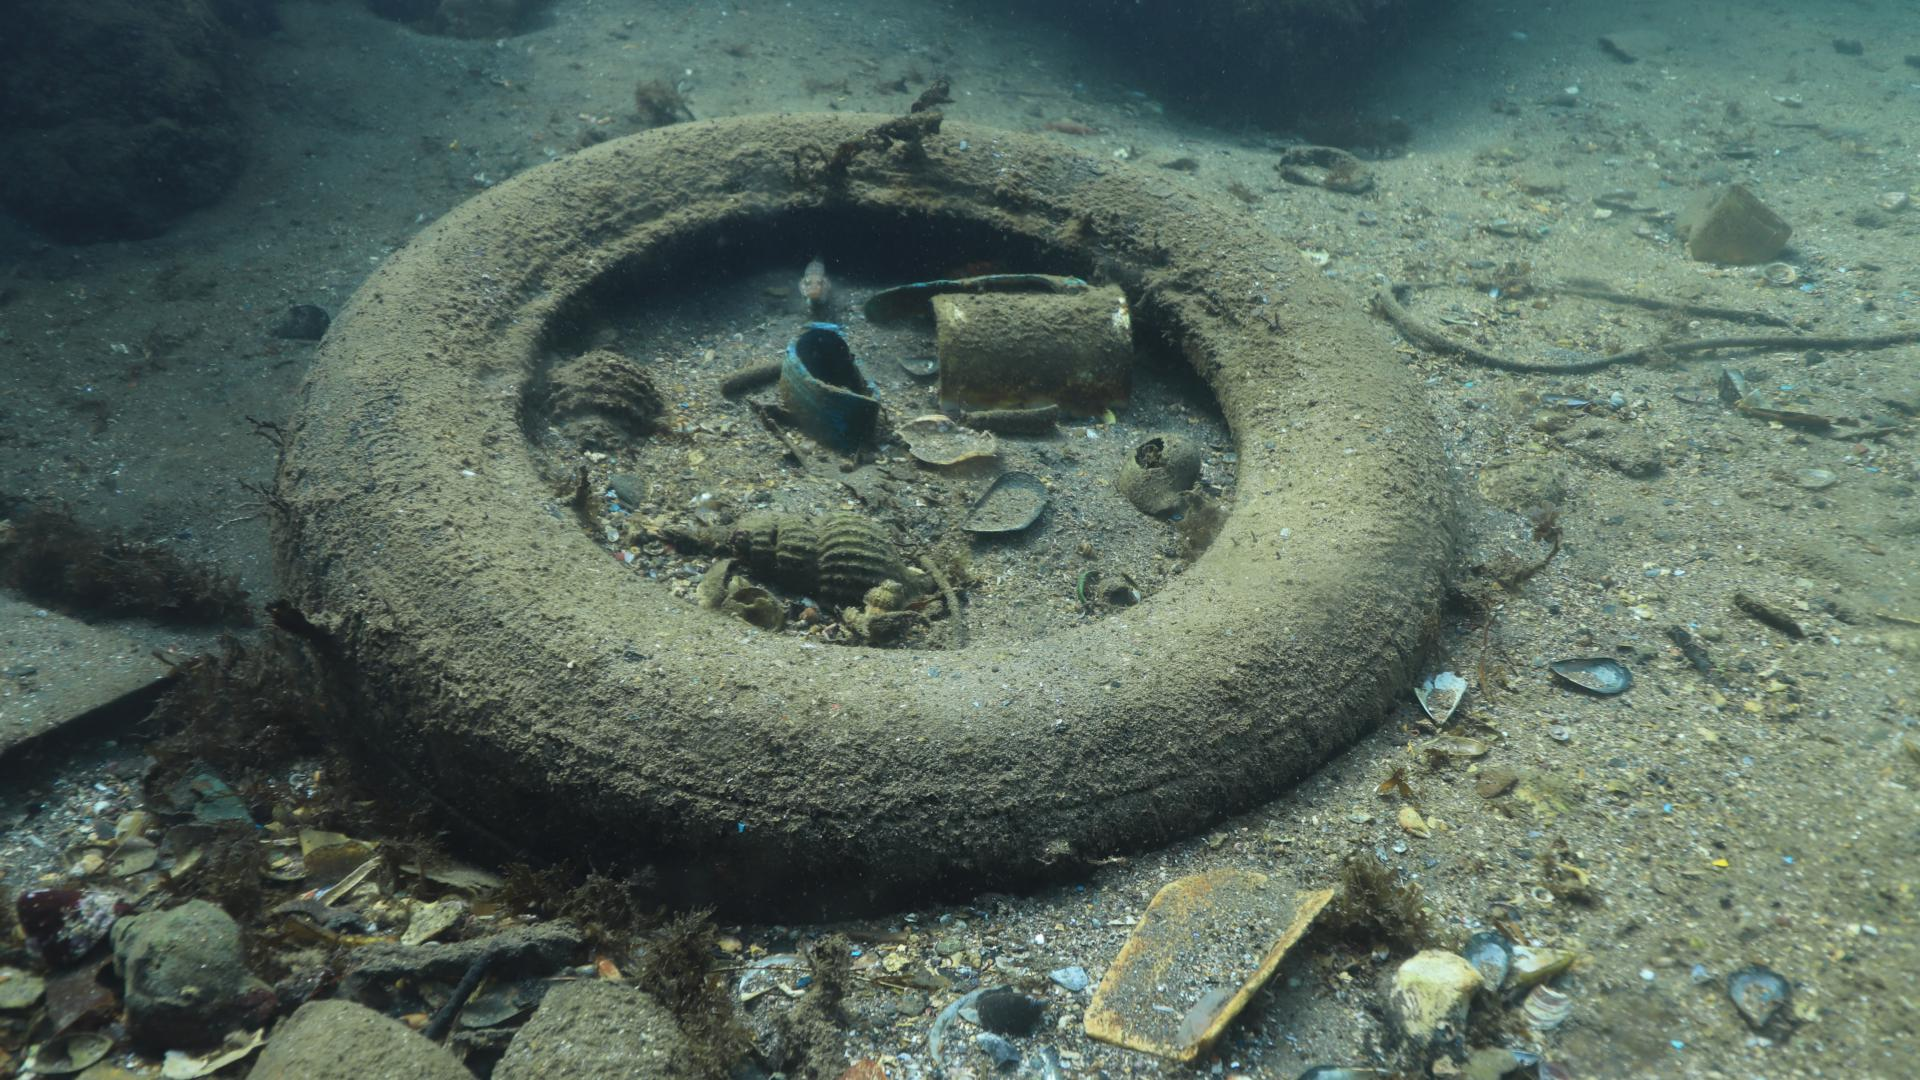tire: (274, 105, 1456, 923)
